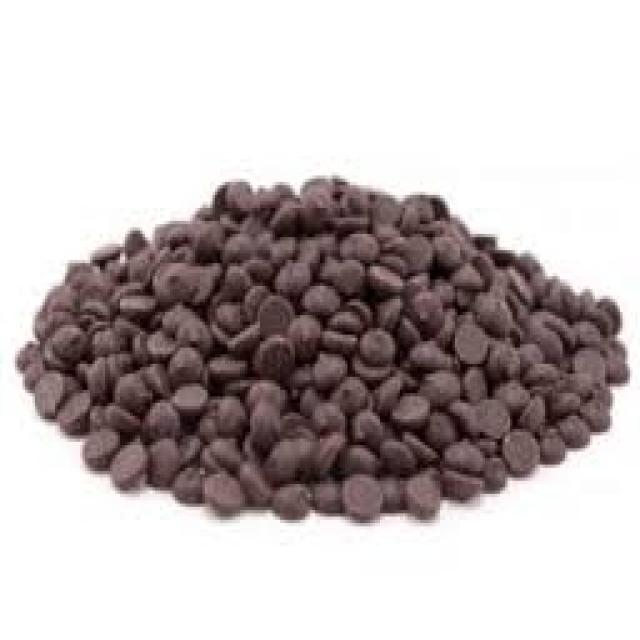Chocolate: (18, 169, 630, 525)
